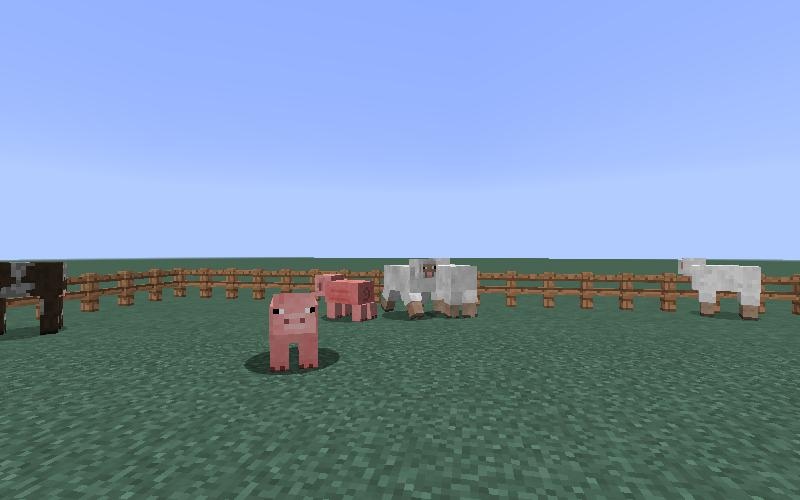cow: (1, 253, 68, 339)
pig: (267, 291, 319, 371), (316, 268, 379, 324)
sheep: (675, 253, 763, 328), (378, 256, 438, 320), (436, 259, 478, 319)
